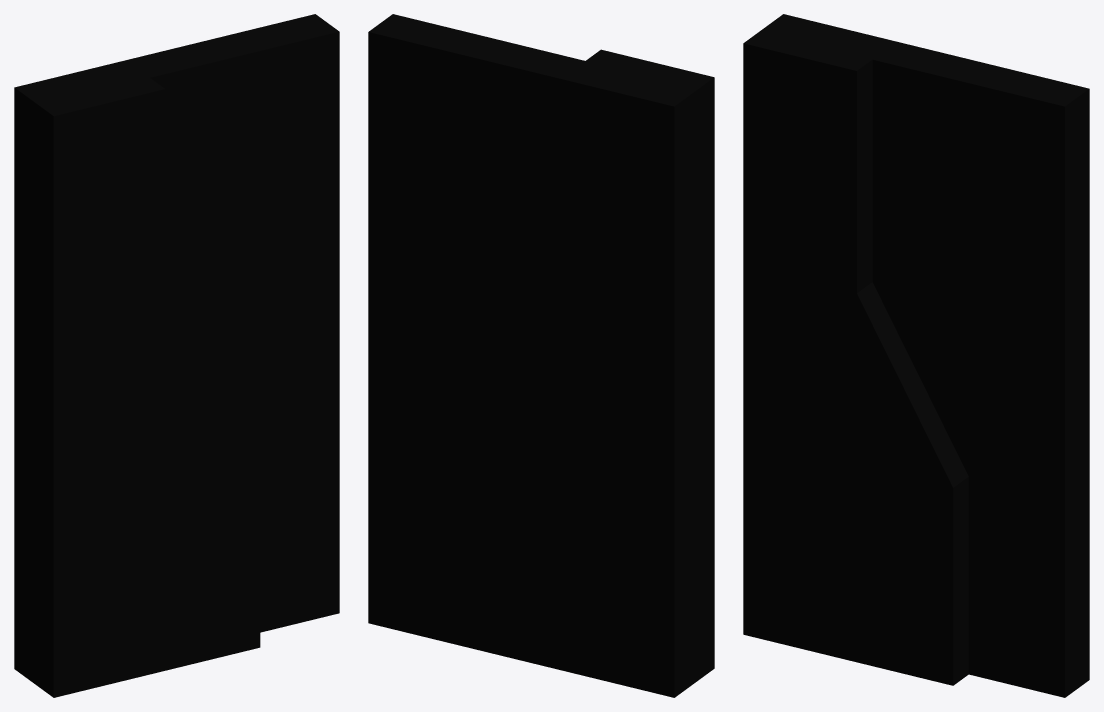
Rendered from door.fbx.
3 renders of one model, left to right at view 1: azimuth 30°, elevation 25°; view 2: azimuth 150°, elevation 25°; view 3: azimuth 330°, elevation 25°, orthographic.
Visible parts, largest first — view 1: Cube.012; view 2: Cube.012; view 3: Cube.012.
Part boxes in pixels (x1,y1,x2,y2): Cube.012: [14, 14, 339, 697]; Cube.012: [368, 14, 714, 697]; Cube.012: [743, 14, 1089, 697].
Size of the model in its own units: 92.67 by 171 by 21.03.
